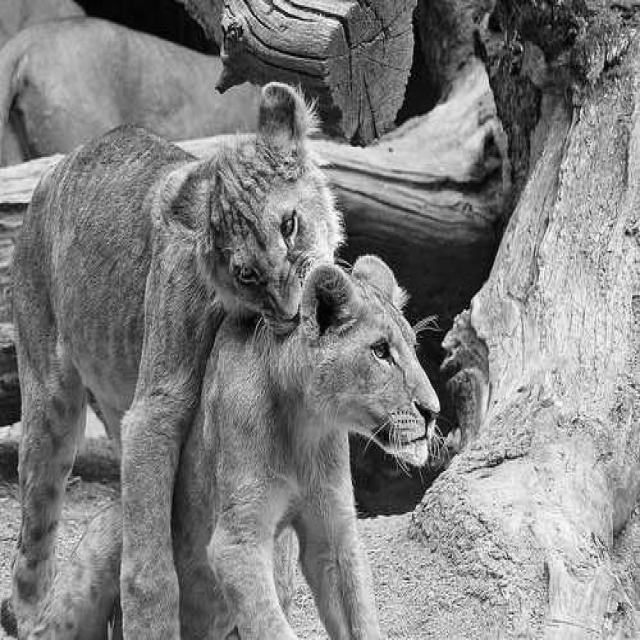Lion: (276, 265, 470, 574), (162, 118, 370, 350)
